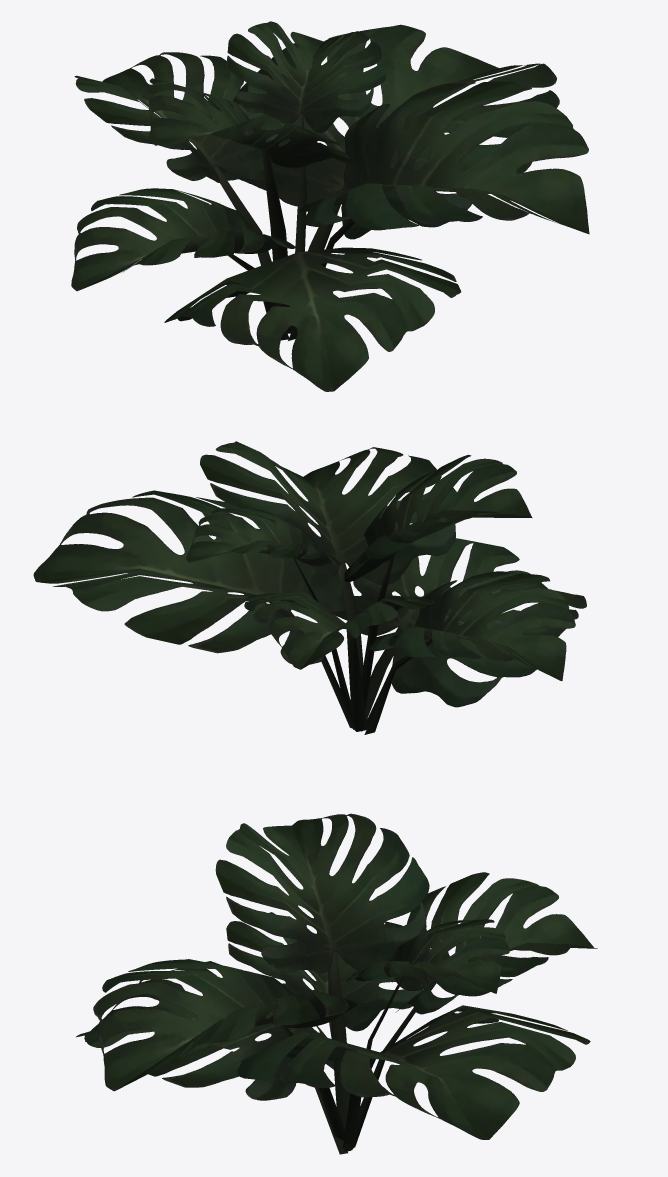
The picture shows the model from 3 angles, top to bottom: view 1: azimuth 30°, elevation 25°; view 2: azimuth 150°, elevation 25°; view 3: azimuth 270°, elevation 25°; orthographic projection. The views are drawn at different scales.
Parts seen in each view (by area): view 1: body0_model0_lod0_mesh0; view 2: body0_model0_lod0_mesh0; view 3: body0_model0_lod0_mesh0.
Boxes of the visible parts, left/top/right/bottom form: body0_model0_lod0_mesh0: left=71, top=21, right=589, bottom=391; body0_model0_lod0_mesh0: left=33, top=441, right=586, bottom=734; body0_model0_lod0_mesh0: left=76, top=813, right=597, bottom=1154.
Bounding box in the file's own units: 244 × 115 × 238.
1 material, 1 textured.
